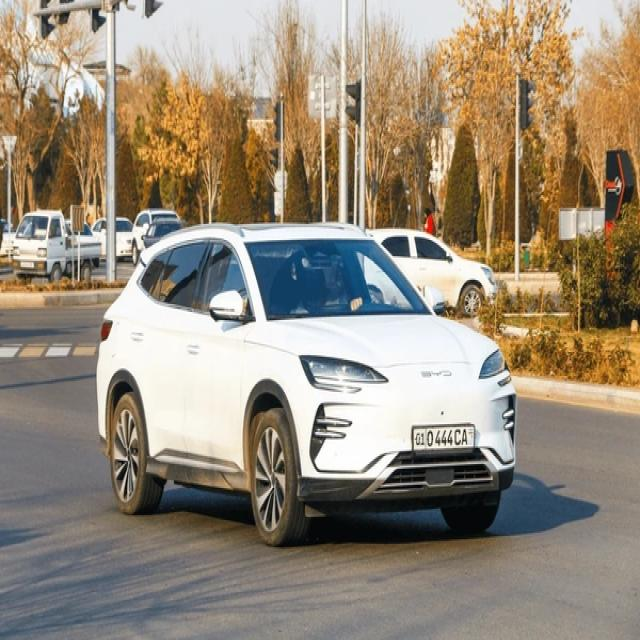byd: (419, 366, 454, 380)
